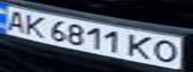1: (84, 25, 106, 51), (103, 28, 124, 54)
6: (45, 17, 69, 44)
8: (63, 21, 87, 47)
A: (0, 7, 30, 33)
K: (124, 33, 157, 61), (18, 12, 48, 38)
O: (148, 37, 187, 65)
